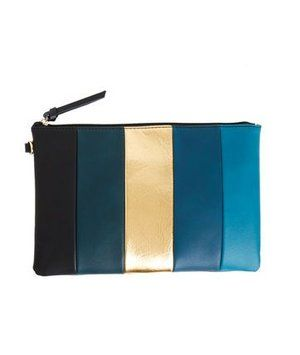cuero: (23, 88, 260, 275)
